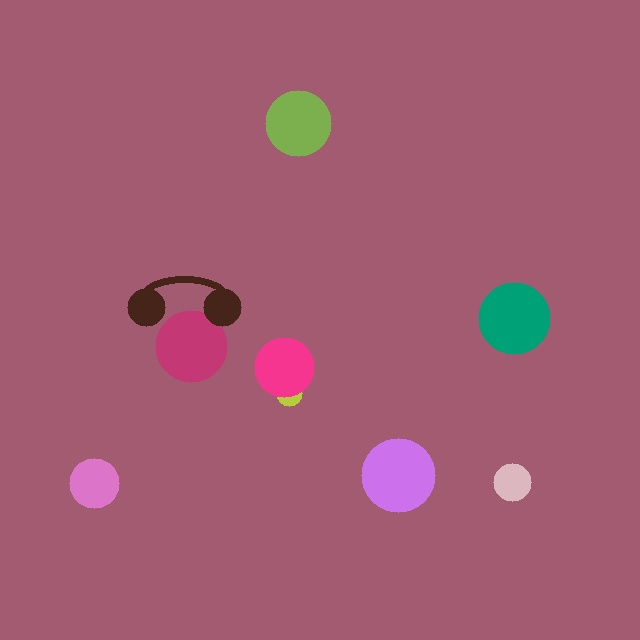over_ear: (123, 261, 245, 330)
